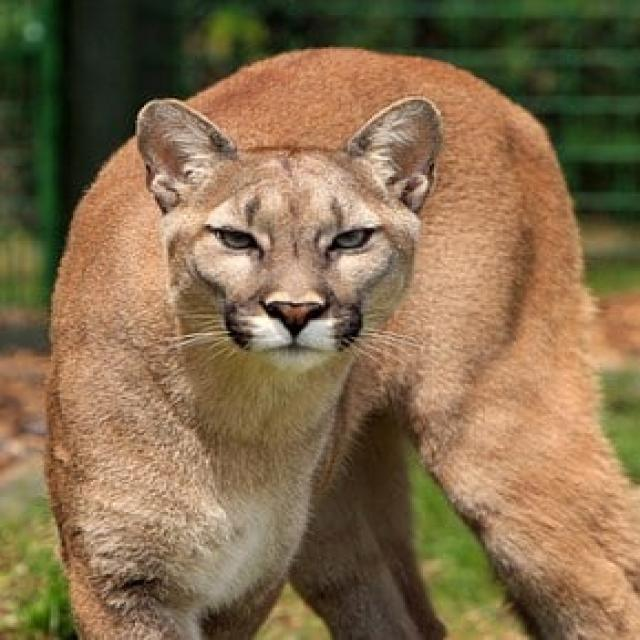Lion: (47, 49, 638, 638)
